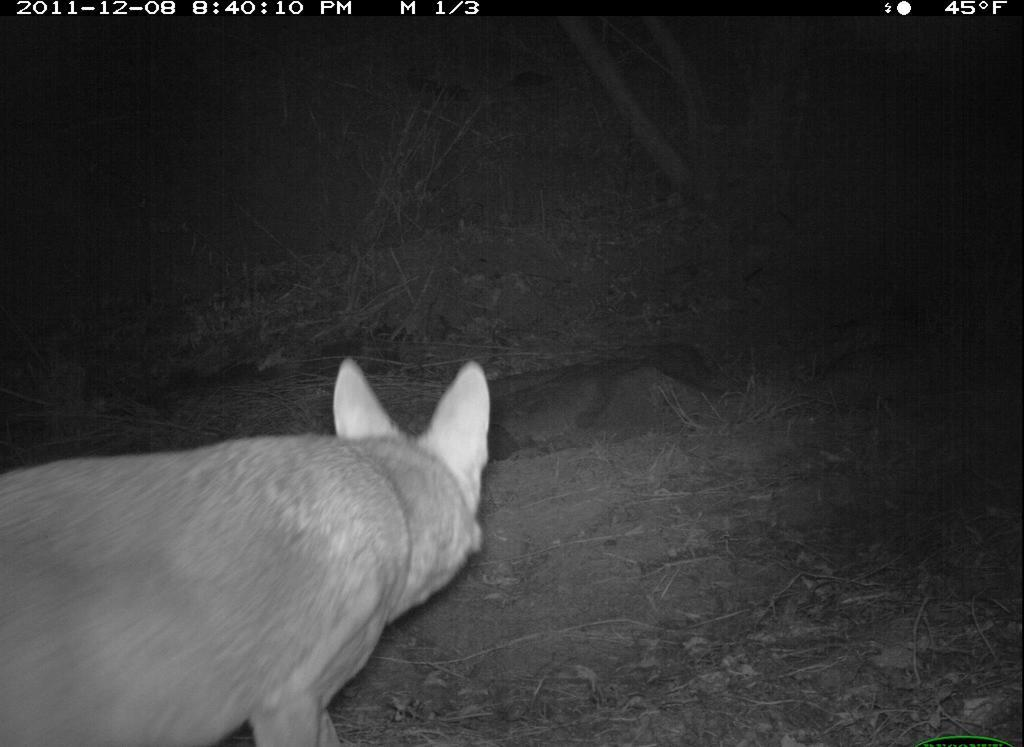coyote: (1, 346, 502, 740)
